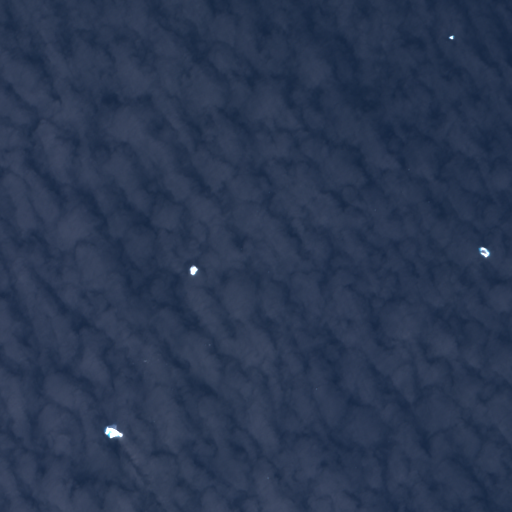Iceberg: (105, 424, 123, 438), (479, 246, 489, 257), (189, 265, 197, 275), (448, 35, 454, 39)
